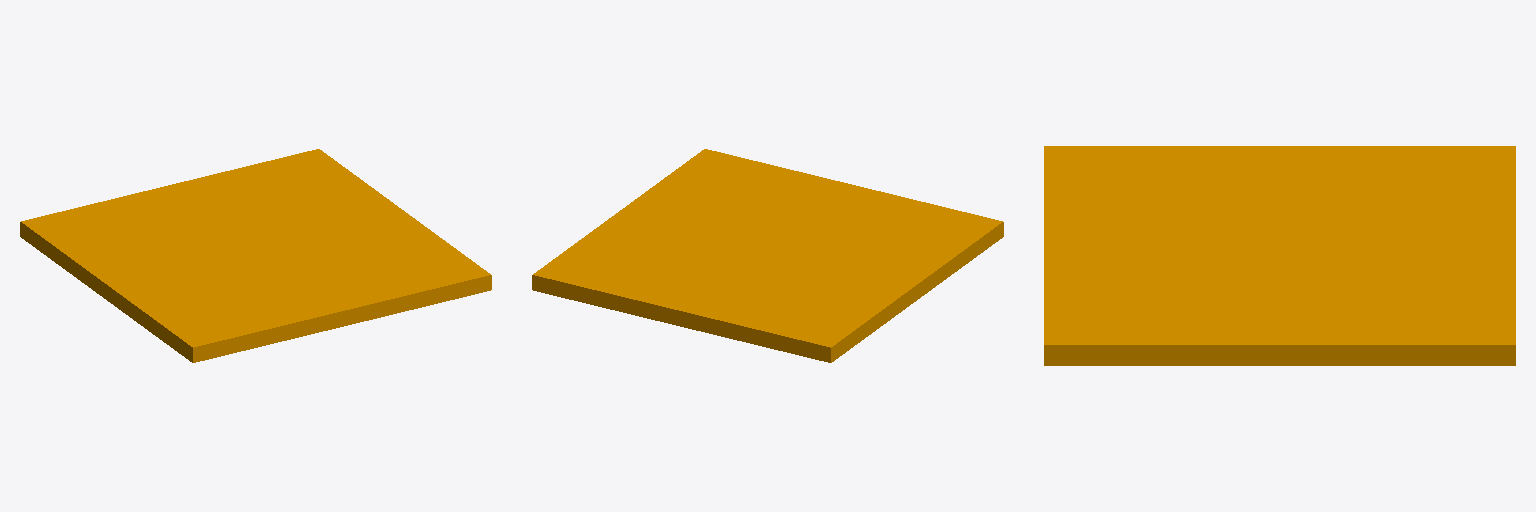
URDF robot description (WCS_lr):
<?xml version="1.0"?>
<robot xmlns:sensor="http://playerstage.sourceforge.net/gazebo/xmlschema/#sensor"
       xmlns:controller="http://playerstage.sourceforge.net/gazebo/xmlschema/#controller"
       xmlns:interface="http://playerstage.sourceforge.net/gazebo/xmlschema/#interface"
       xmlns:xacro="http://ros.org/wiki/xacro"
       name="WCS_lr">
       
<link name="WCS_lr">
     <inertial>
      <origin xyz="10.765 5.3 .7495" rpy="0 0 0" /> 
      <mass value="2.0" />
      <inertia  ixx="1.0" ixy="0.0"  ixz="0.0"  iyy="100.0"  iyz="0.0"  izz="1.0" />
    </inertial>
    <visual>
      <origin xyz="10.765 5.3 .7495" rpy="0 0 0" /> 
      <geometry>
        <box size="0.02 0.02 0.001" />
      </geometry>
    </visual>
    <collision name="WCS_lr">
     <origin xyz="10.765 5.3 .7495" rpy="0 0 0" /> 
      <geometry>
       <box size="0.02 0.02 0.001" />
      </geometry>
    </collision>
  </link>
  <gazebo reference="WCS_lr">
    <material>Gazebo/Black</material>    
  </gazebo>
       
<gazebo reference="WCS_lr">
      <selfCollide>true</selfCollide>
      <sensor:contact name="WCS_lr">
        <geom>WCS_lr_geom</geom>
        <updateRate>100.0</updateRate>
        <controller:gazebo_ros_bumper name="gazebo_ros_bumper_controller" plugin="libgazebo_ros_bumper.so">
          <alwaysOn>true</alwaysOn>
          <updateRate>100.0</updateRate>
          <bumperTopicName>/angen_contact/WCS/livingroom</bumperTopicName>
          <interface:bumper name="contact_bumper_iface" />
        </controller:gazebo_ros_bumper>
      </sensor:contact>
    </gazebo>
</robot>

--- Render facts (derived) ---
The picture shows the robot from 3 angles, left to right: view 1: azimuth 30°, elevation 25°; view 2: azimuth 150°, elevation 25°; view 3: azimuth 270°, elevation 25°; orthographic projection.
Robot: WCS_lr — 1 links, 0 joints (none); root link WCS_lr; default pose: every joint at zero.
Visible links, largest first — view 1: WCS_lr; view 2: WCS_lr; view 3: WCS_lr.
Link boxes in pixels (x1,y1,x2,y2): WCS_lr: (20,149,491,362); WCS_lr: (532,149,1003,362); WCS_lr: (1044,146,1515,365).
Size in the robot's own frame: 0.02 by 0.02 by 0.001 metres.
Geometry: primitives only (box / cylinder / sphere), no mesh files.
